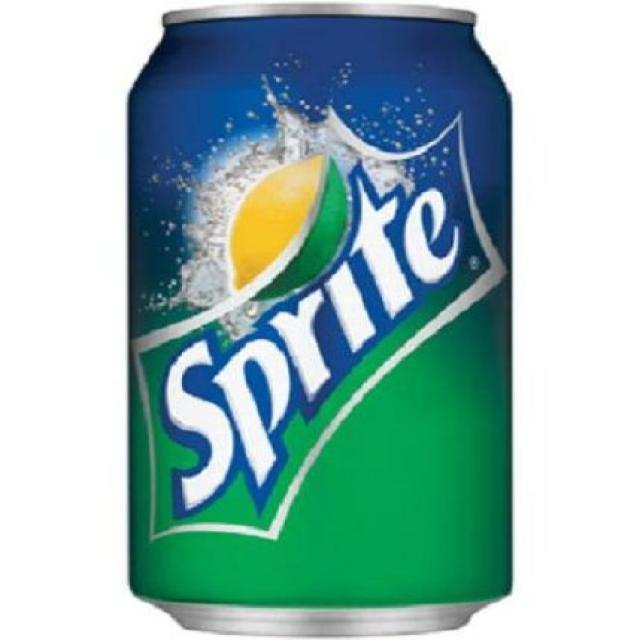aluminum_can: (130, 5, 512, 636)
